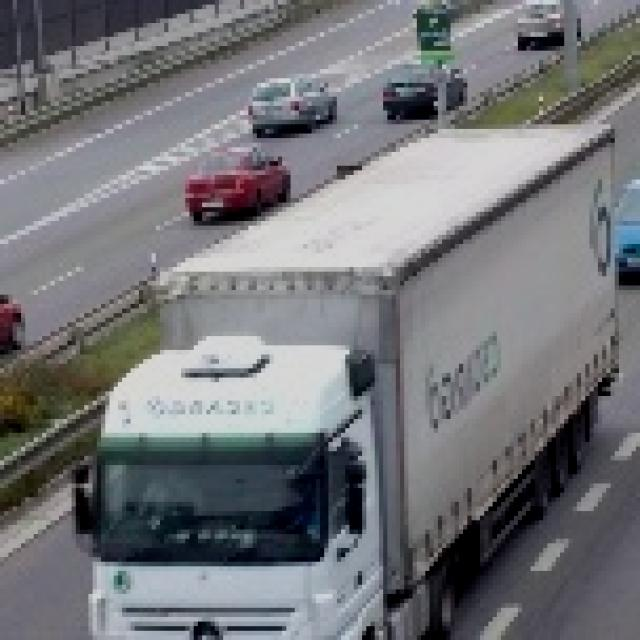SUV: (249, 72, 339, 135)
TRUCK: (78, 137, 625, 640)
